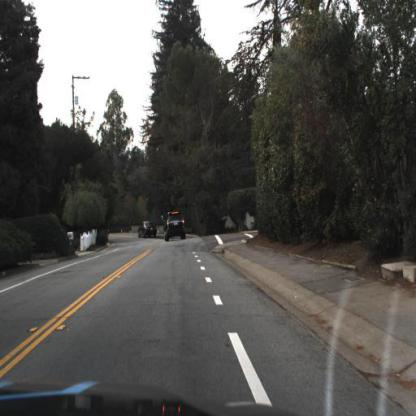car: (165, 211, 187, 243), (139, 222, 161, 240)
